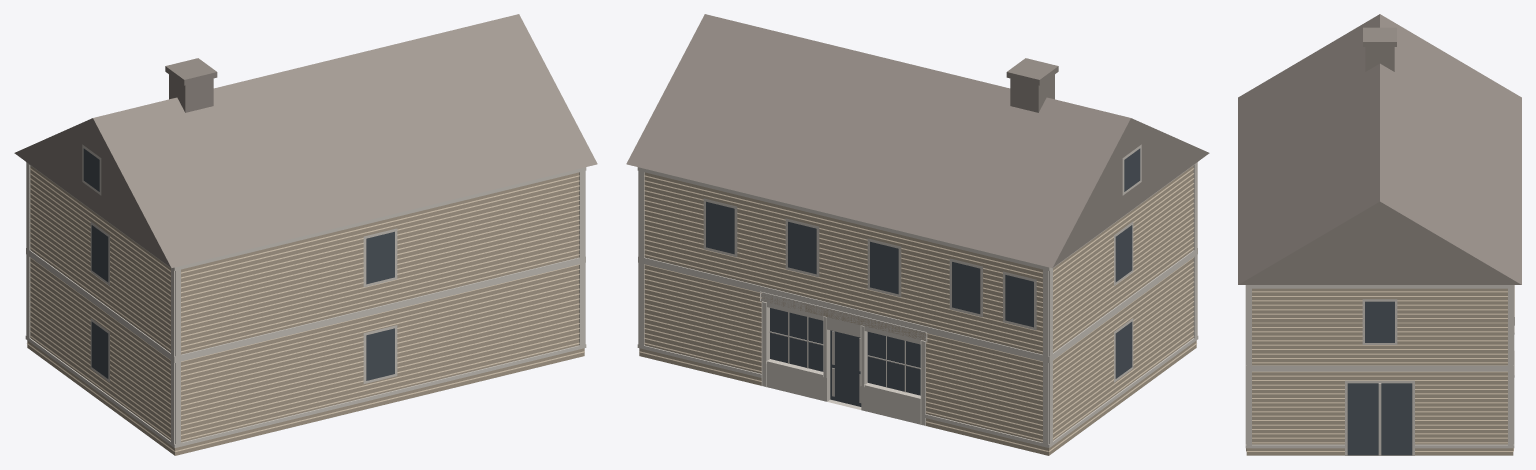
Rendered from peck_store__frame_1833.glb.
The picture shows the model from 3 angles, left to right: view 1: azimuth 30°, elevation 25°; view 2: azimuth 150°, elevation 25°; view 3: azimuth 270°, elevation 25°; orthographic projection. The views are drawn at different scales.
Parts seen in each view (by area): view 1: peck_store__frame_1833; view 2: peck_store__frame_1833; view 3: peck_store__frame_1833.
Part boxes in pixels (x1=…): peck_store__frame_1833: x1=14, y1=14, x2=597, y2=455; peck_store__frame_1833: x1=626, y1=14, x2=1209, y2=455; peck_store__frame_1833: x1=1238, y1=14, x2=1521, y2=455.
Size of the model in its own units: 12.73 by 8.85 by 8.12.
